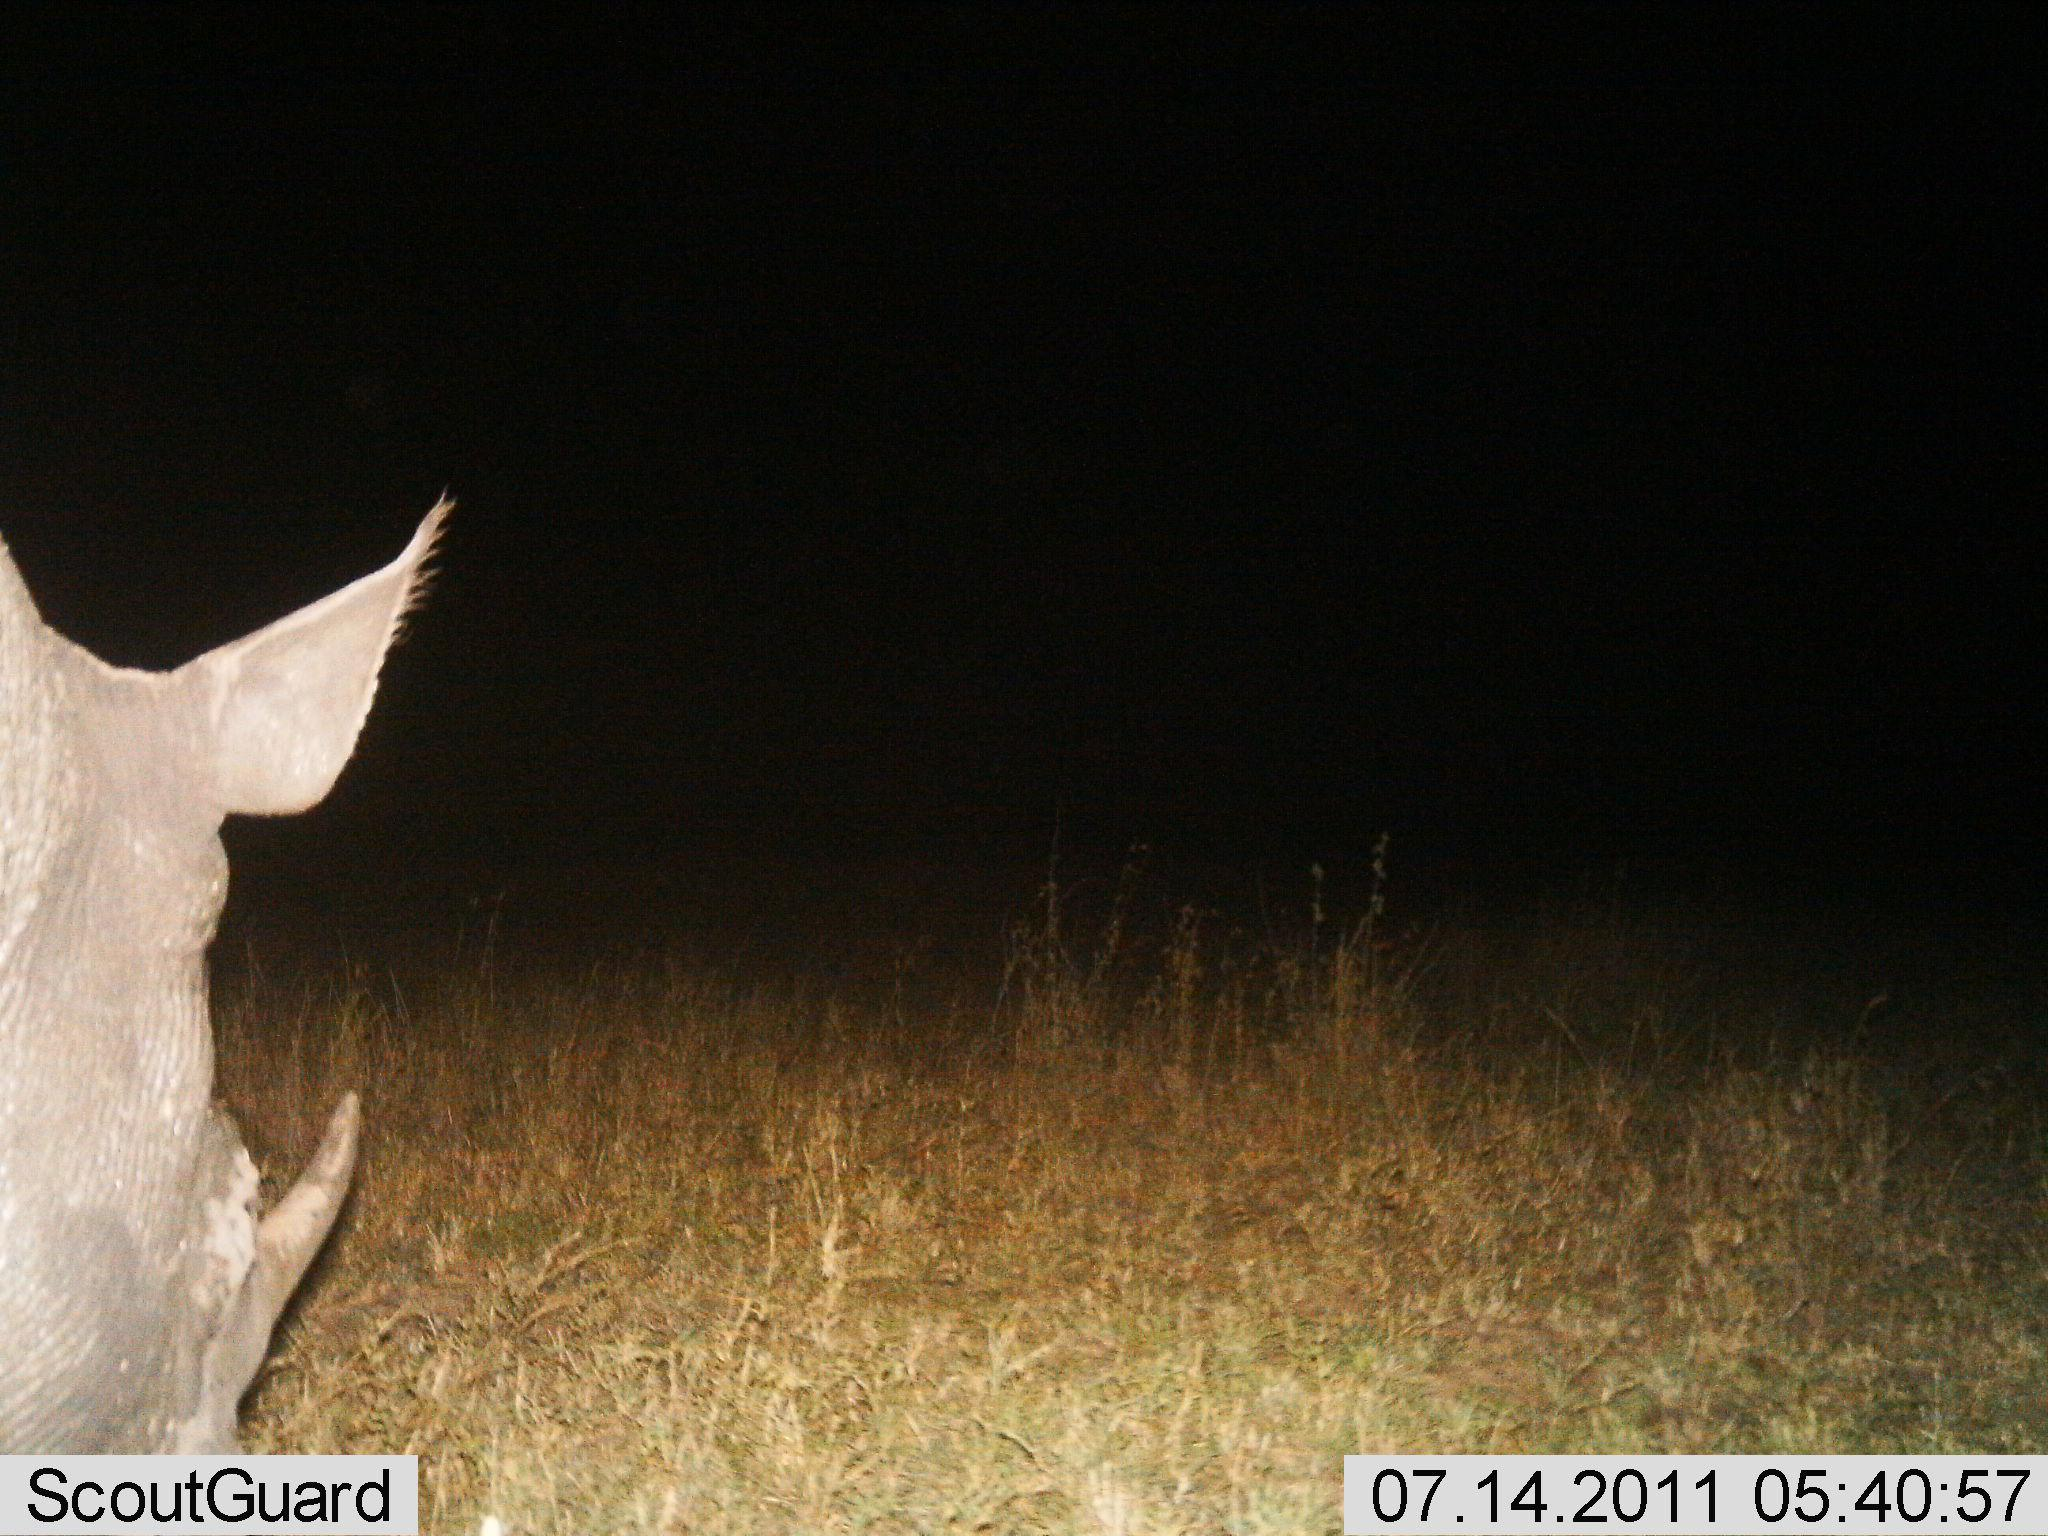rhinoceros: (0, 441, 479, 1452)
